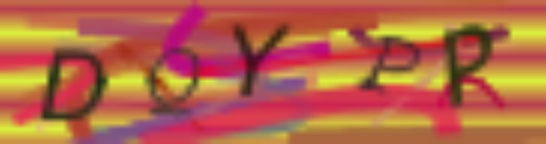D: (39, 44, 111, 125)
P: (442, 23, 494, 114), (354, 35, 425, 97)
Q: (141, 47, 204, 119)
Y: (223, 20, 293, 99)
